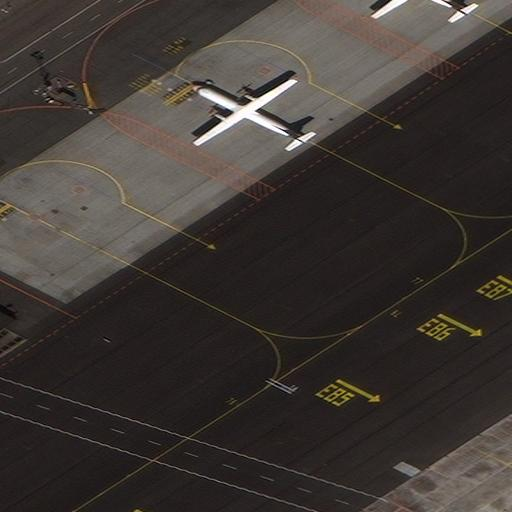Medium Civil Transport: (190, 75, 306, 145), (369, 0, 468, 16)
